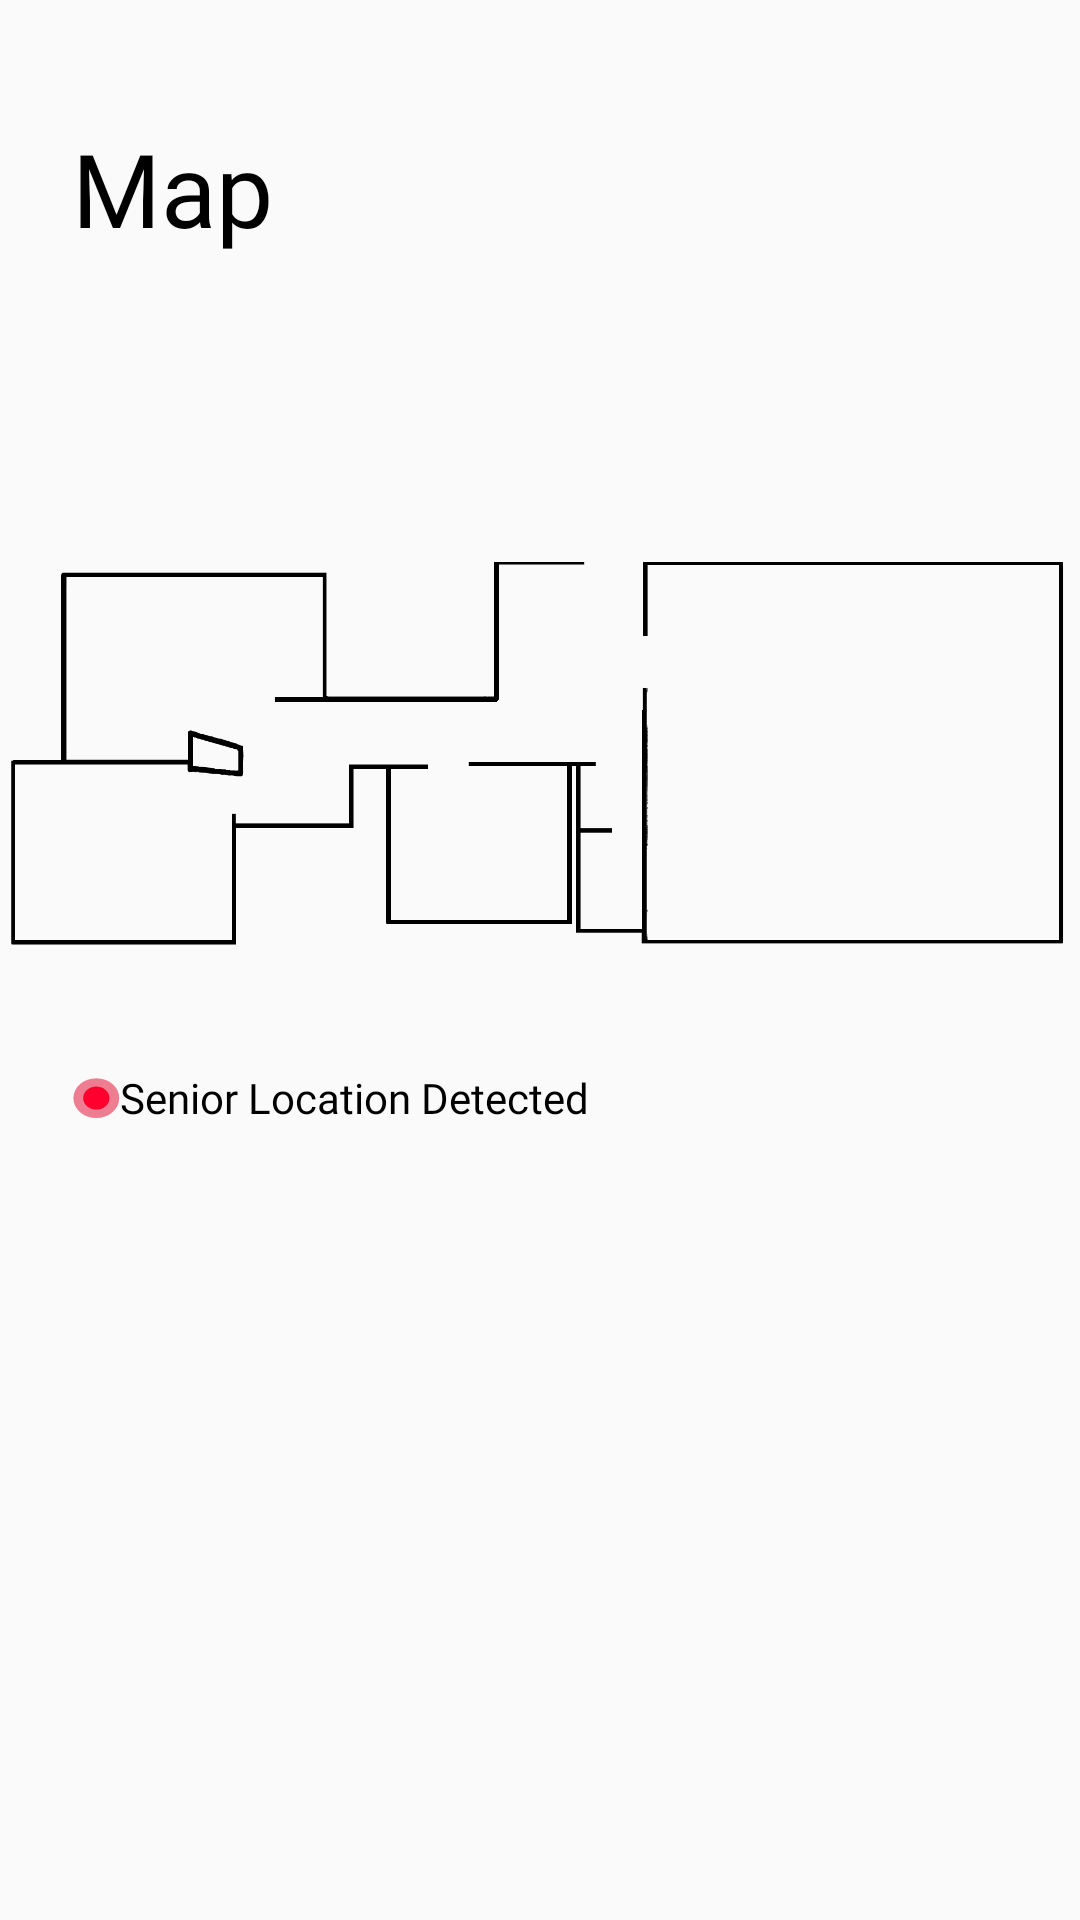

Icon click points for this 1080 × 1920 phone screenshot, format (x=x, y=y):
dot: (x=96, y=1098)
